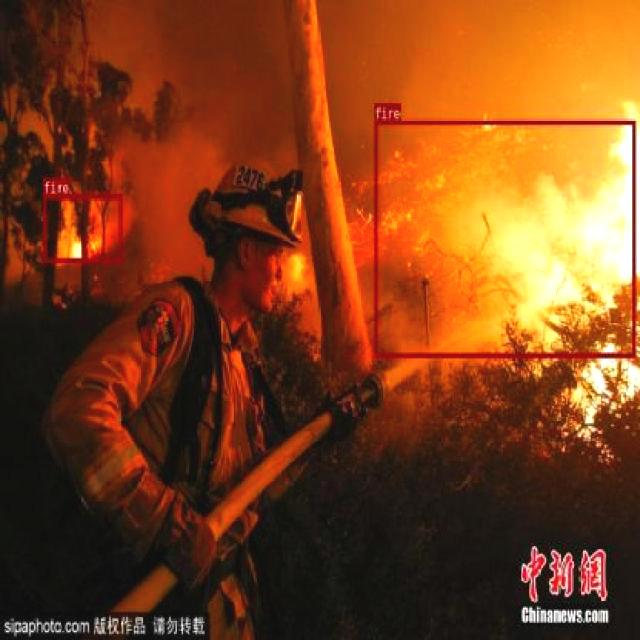fire: (374, 119, 636, 356), (43, 193, 122, 262)
